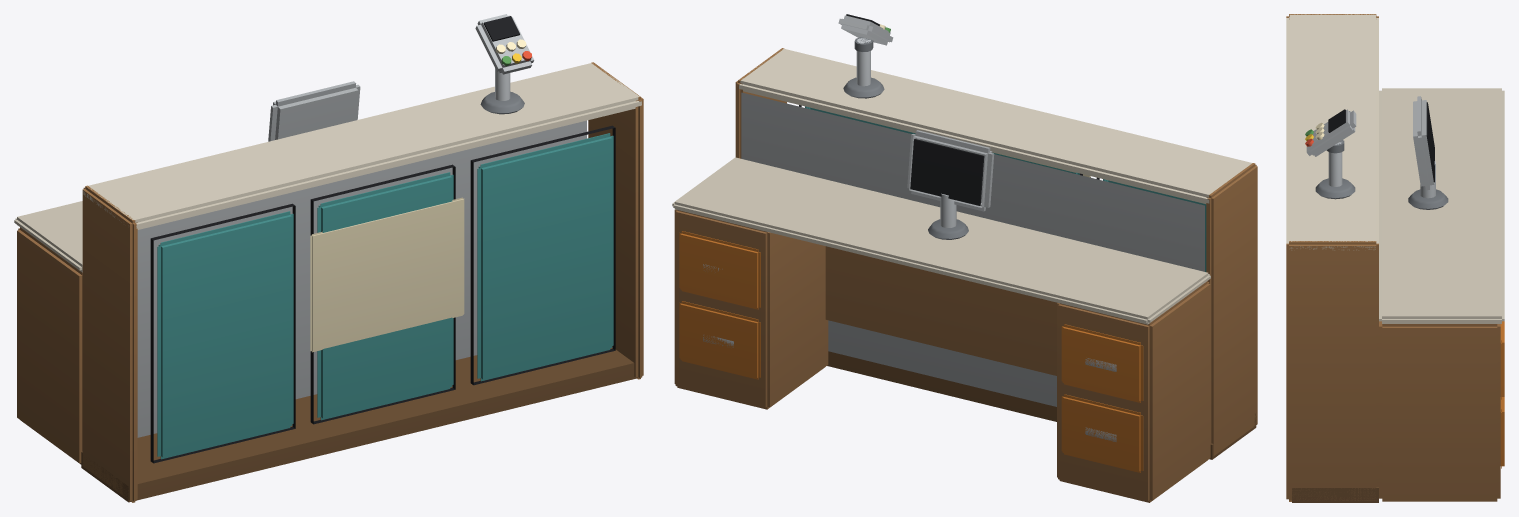
The model's file is ServiceDesk_20.glb.
The picture shows the model from 3 angles, left to right: view 1: azimuth 30°, elevation 25°; view 2: azimuth 150°, elevation 25°; view 3: azimuth 270°, elevation 25°; orthographic projection. The views are drawn at different scales.
Visible parts, largest first — view 1: SM_ServiceDesk_20; view 2: SM_ServiceDesk_20; view 3: SM_ServiceDesk_20.
Boxes of the visible parts, box(x1,y1,x2,y2) form: SM_ServiceDesk_20: box(14, 14, 643, 502); SM_ServiceDesk_20: box(672, 14, 1257, 502); SM_ServiceDesk_20: box(1286, 14, 1504, 502).
Bounding box in the file's own units: 2 × 1.36 × 0.8.
1 material, 1 textured.
